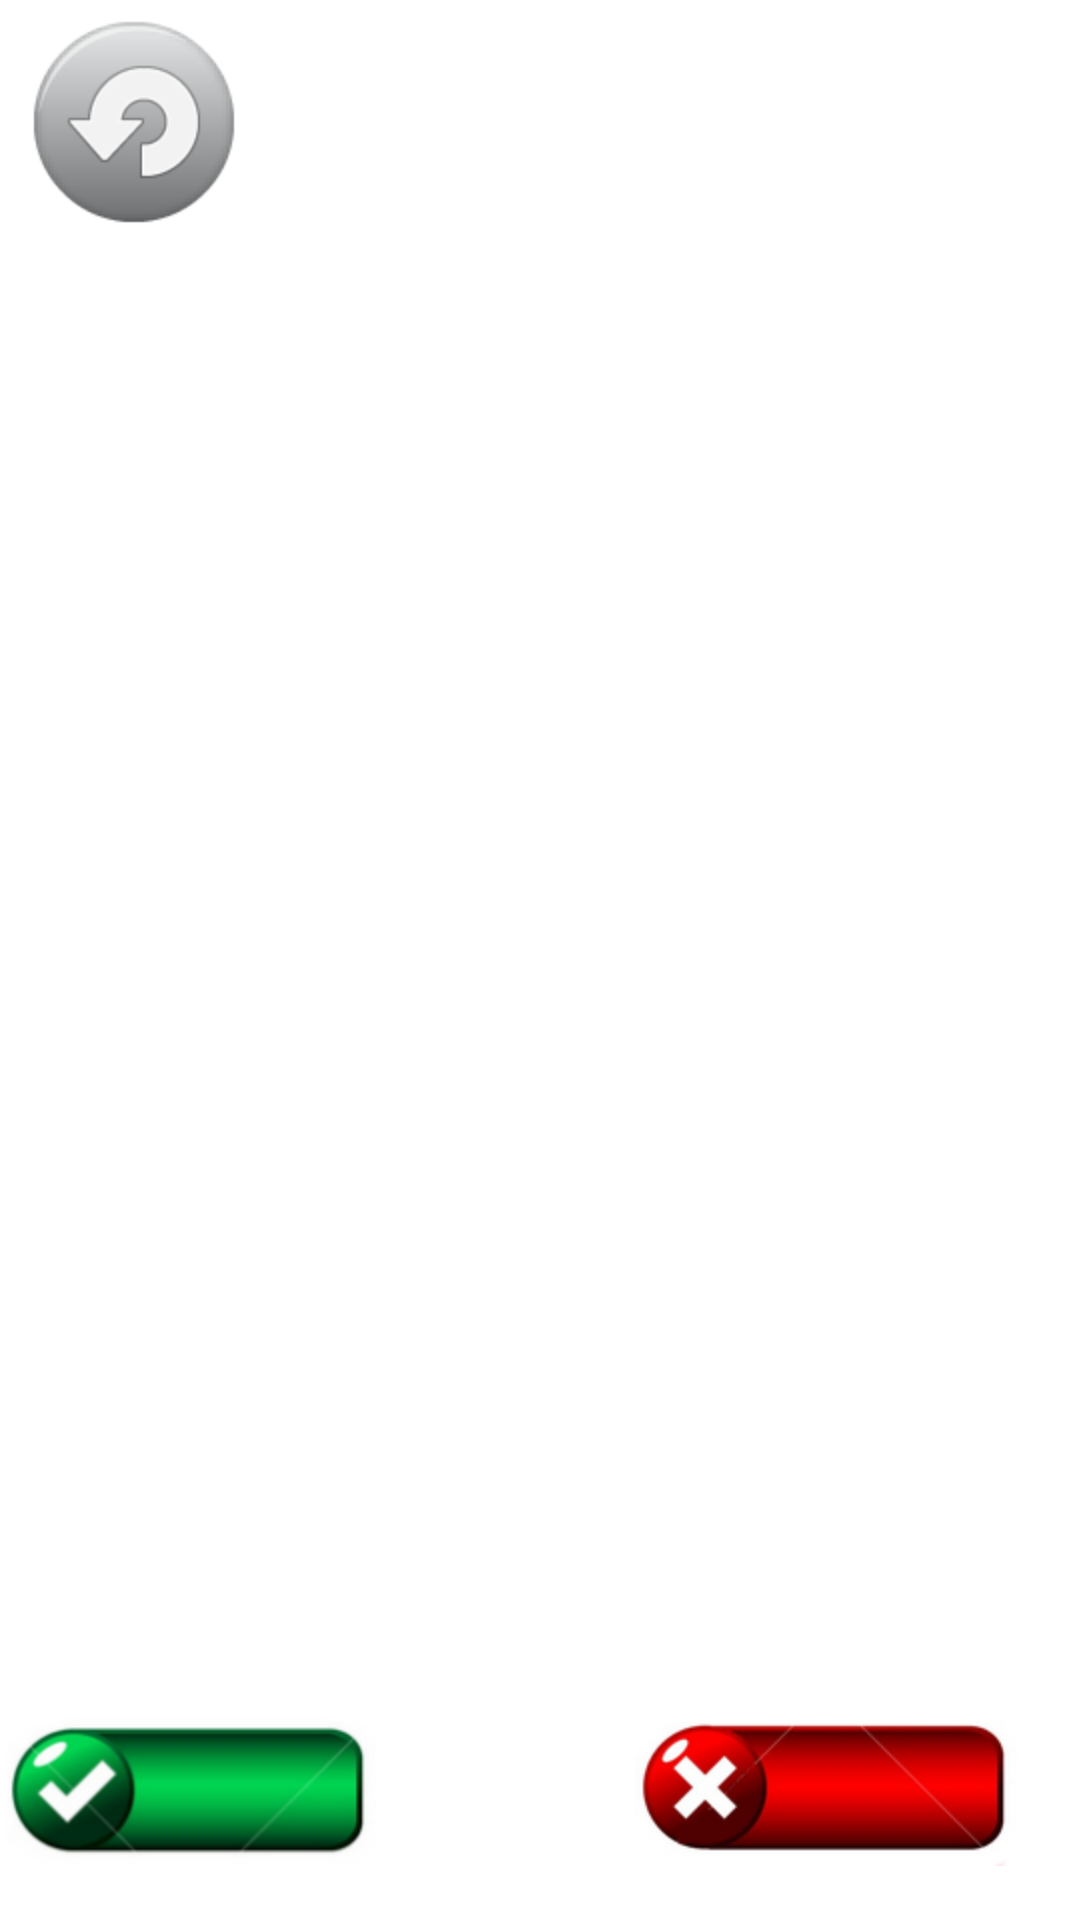

Icons on this 1080*1920 Android screen, each with the point to tap as (x=x, y=y):
back: (x=134, y=122)
fanok: (x=188, y=1790)
